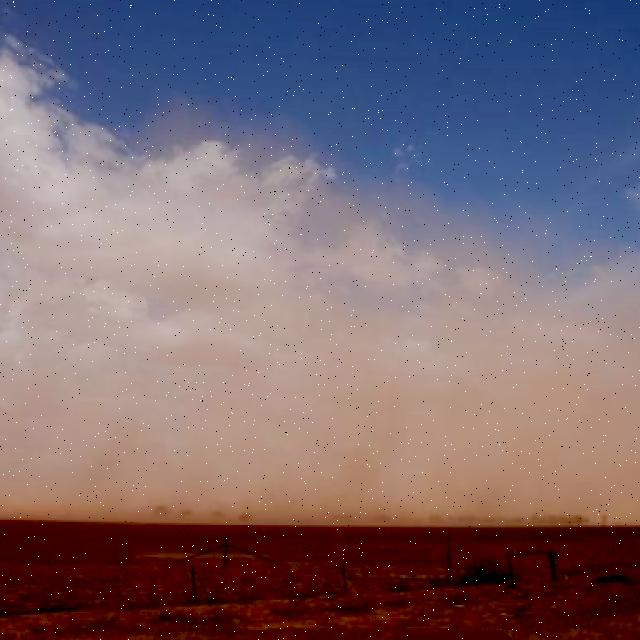Ci: (1, 18, 640, 476)
